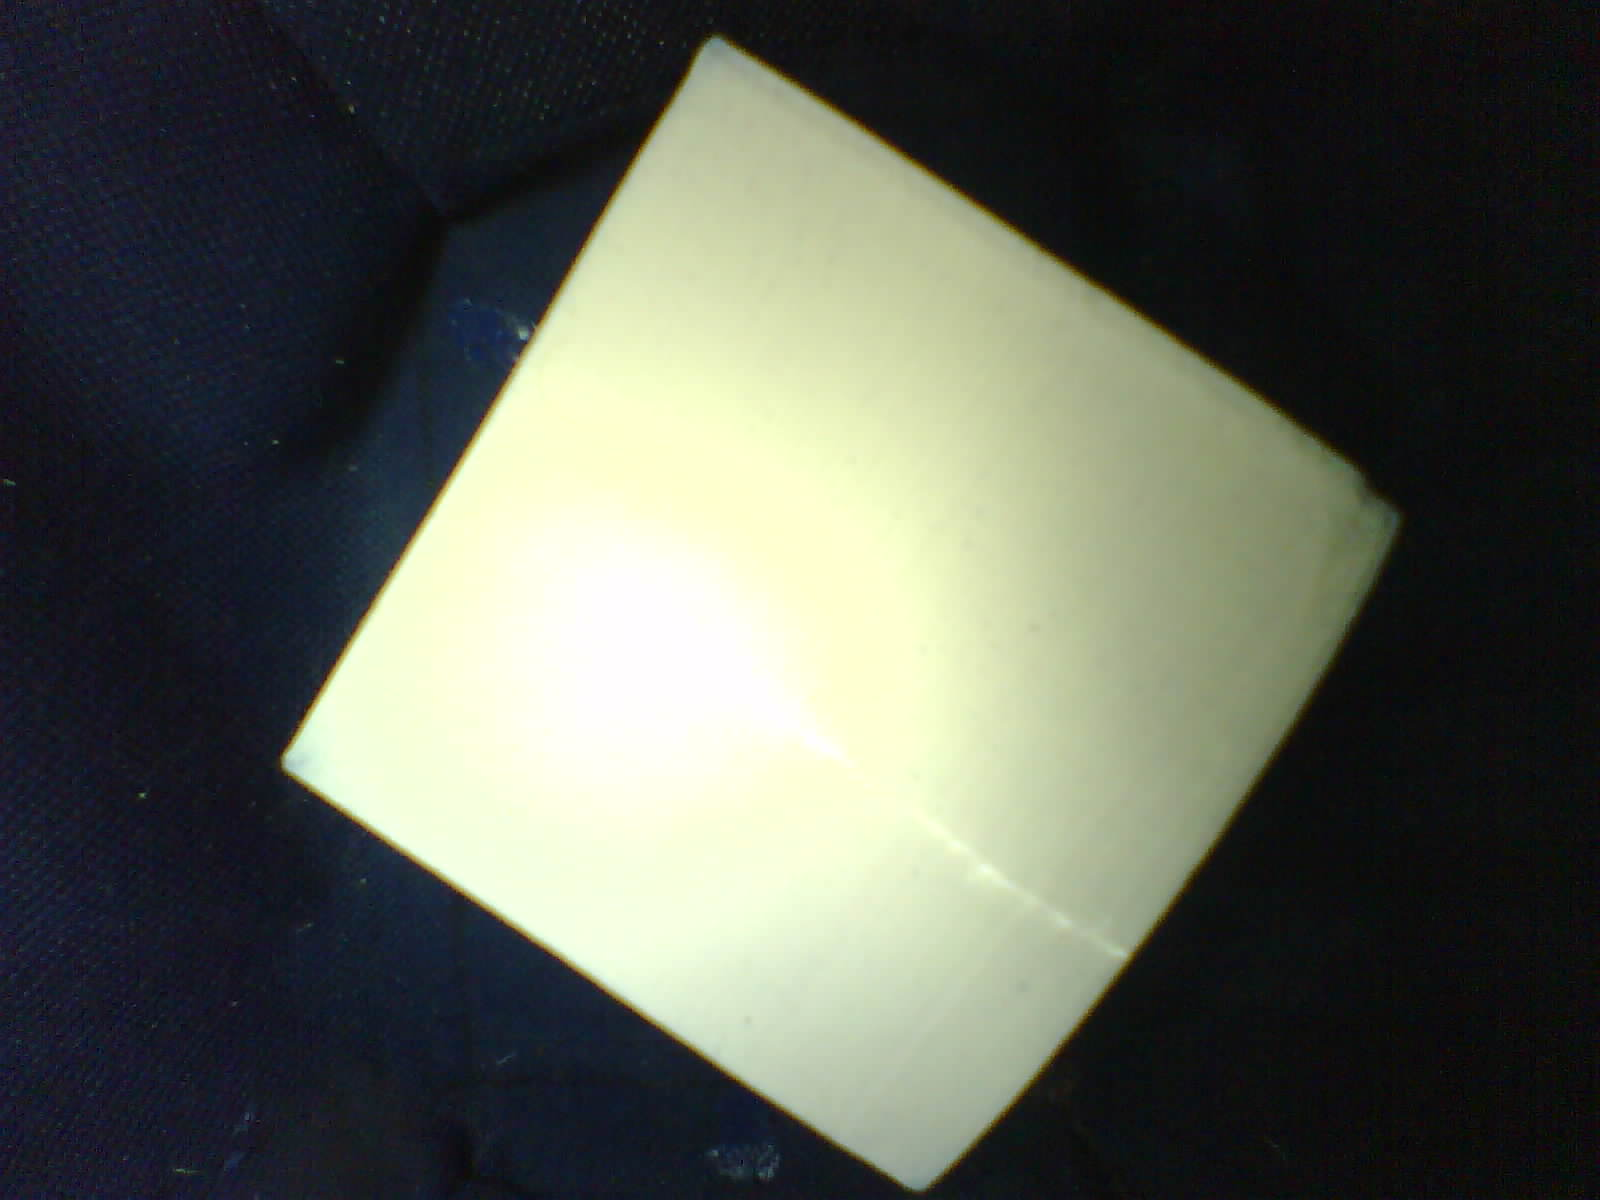cube-hard: (249, 26, 1417, 1197)
